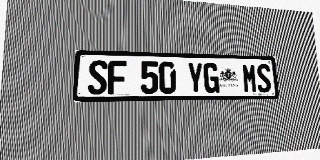0: (159, 61, 176, 94)
5: (141, 61, 158, 94)
F: (108, 60, 127, 94)
G: (203, 63, 220, 93)
M: (242, 63, 258, 93)
S: (88, 60, 108, 95), (256, 64, 272, 93)
Y: (187, 62, 204, 93)
